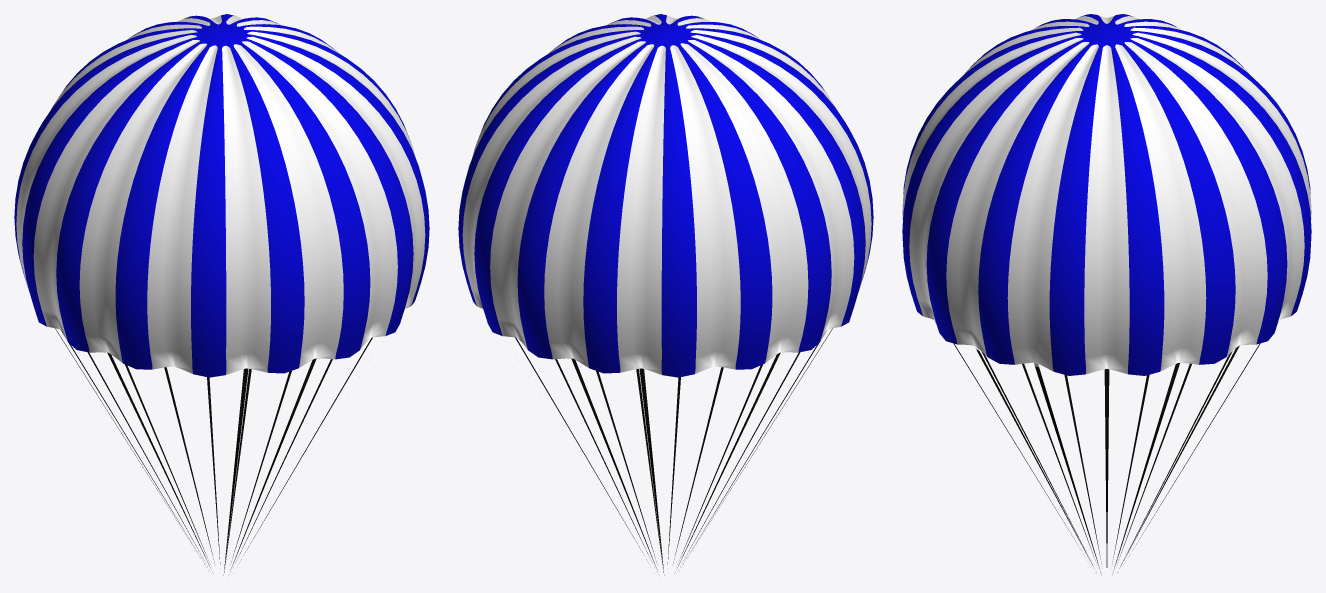
Rendered from parachute.glb.
3 renders of one model, left to right at view 1: azimuth 30°, elevation 25°; view 2: azimuth 150°, elevation 25°; view 3: azimuth 270°, elevation 25°, orthographic.
Parts seen in each view (by area): view 1: Sphere; view 2: Sphere; view 3: Sphere.
Boxes of the visible parts, x1,y1,x2,y2 form: Sphere: (14,14,429,575); Sphere: (458,14,873,575); Sphere: (902,14,1311,573).
Bounding box in the file's own units: 7.49 × 10.99 × 7.49.
